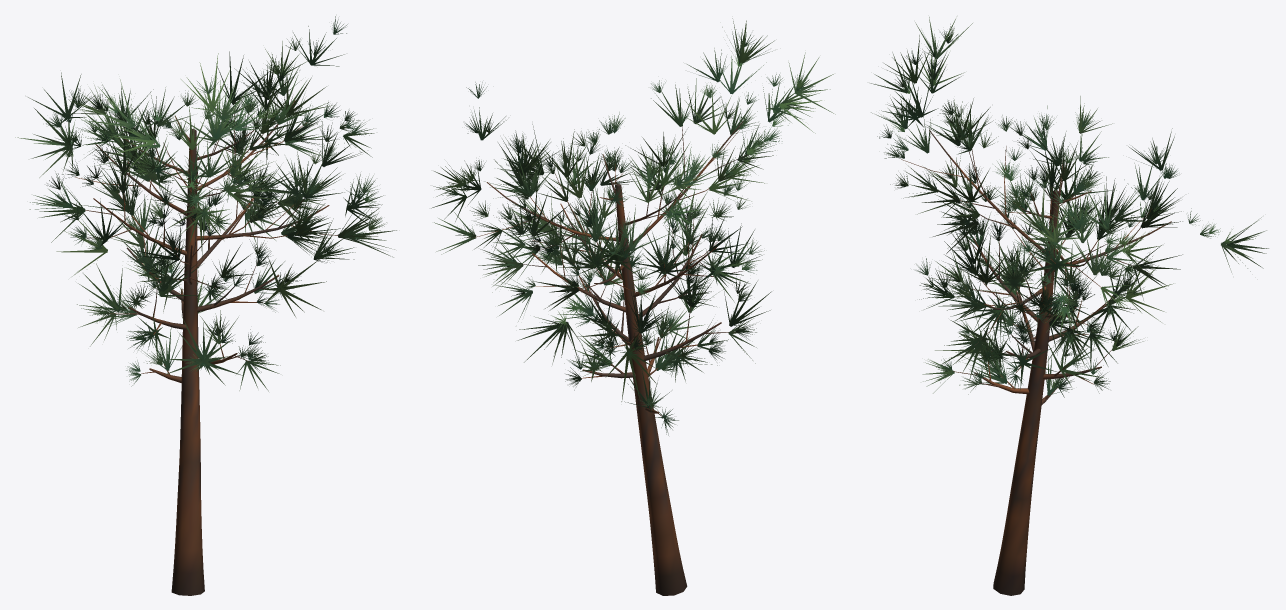
File: pine-b.lod0.glb
3 views of the same model, side by side, from view 1: azimuth 30°, elevation 25°; view 2: azimuth 150°, elevation 25°; view 3: azimuth 270°, elevation 25° (orthographic). The views are drawn at different scales.
Size of the model in its own units: 7.81 by 12.07 by 8.2.
